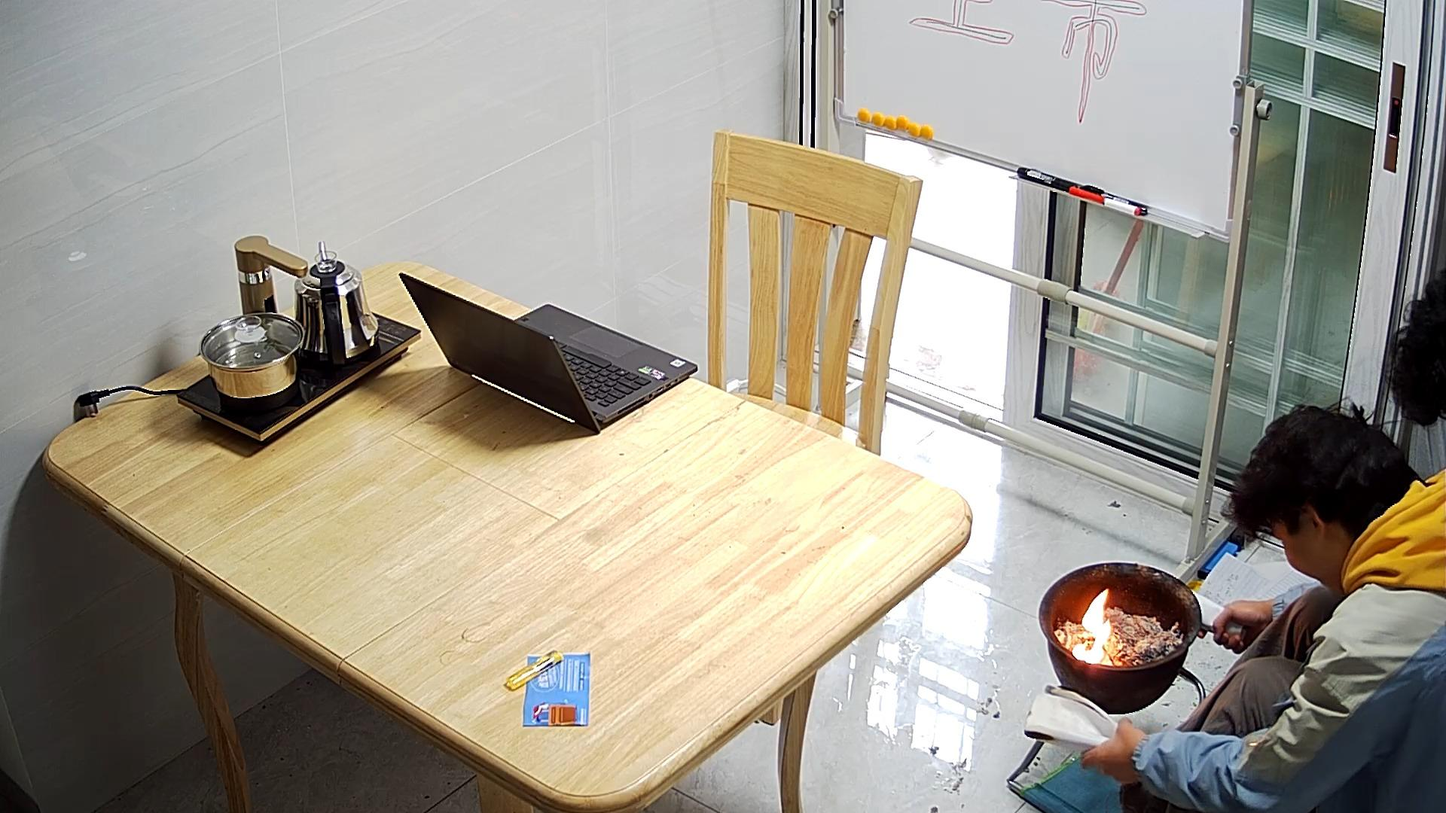fire: (1072, 590, 1110, 662)
